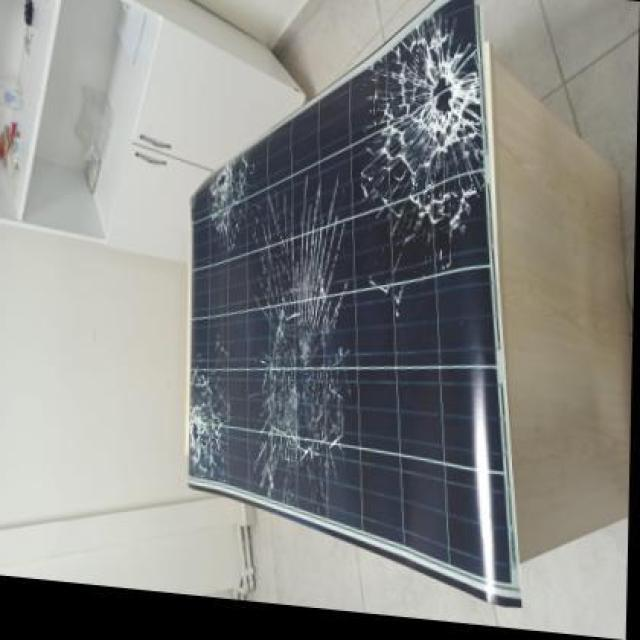cracked: (190, 1, 516, 618)
